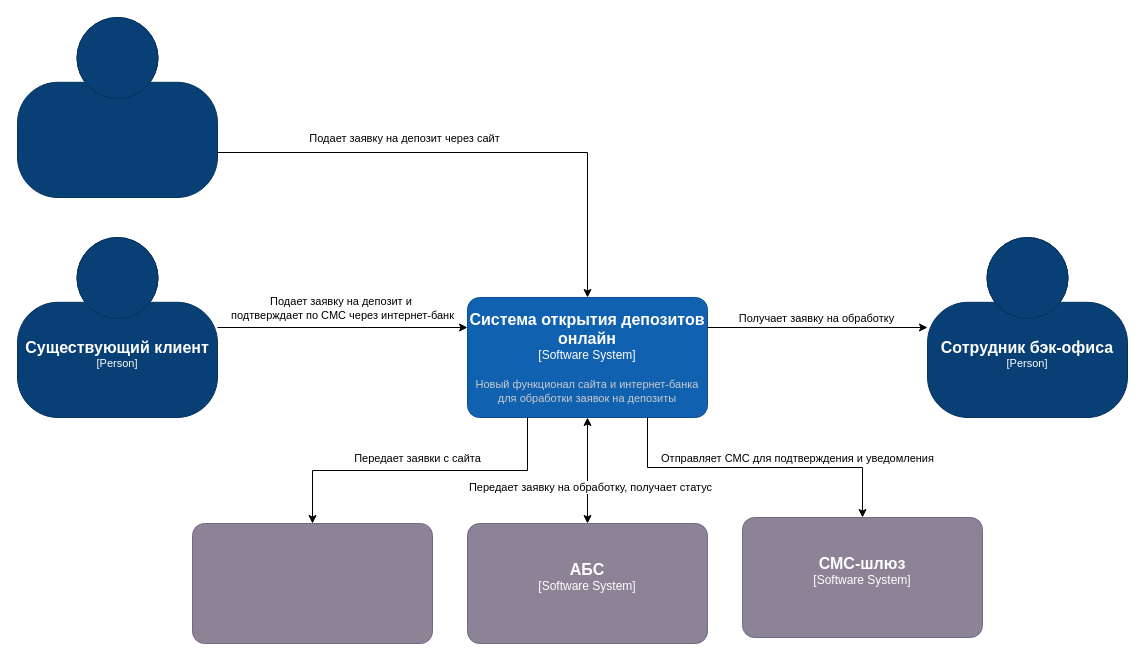
The diagram is 1145 pixels wide and 661 high, and some of its shapes have lost their labels. The centre of each missing label's shape, as x and y in pixels:
Новый клиент [Person]: the point at 117,107
Система кол-центра [Software System]: the point at 312,583
